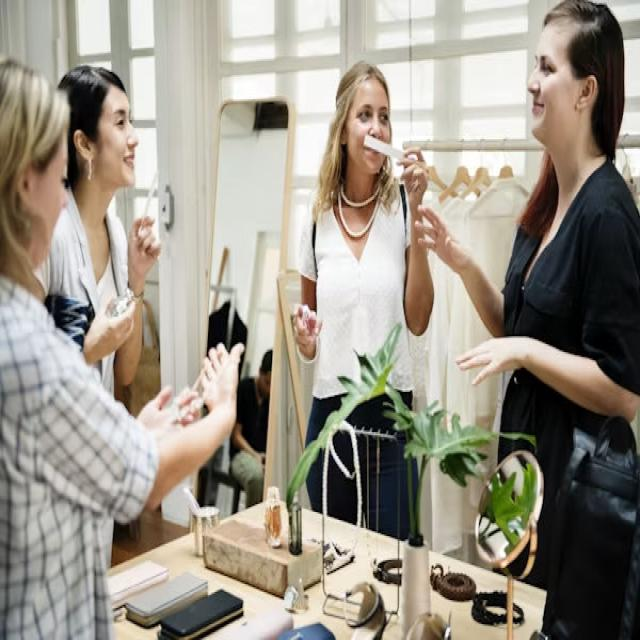Bottle: (265, 487, 281, 547), (290, 492, 301, 555)
